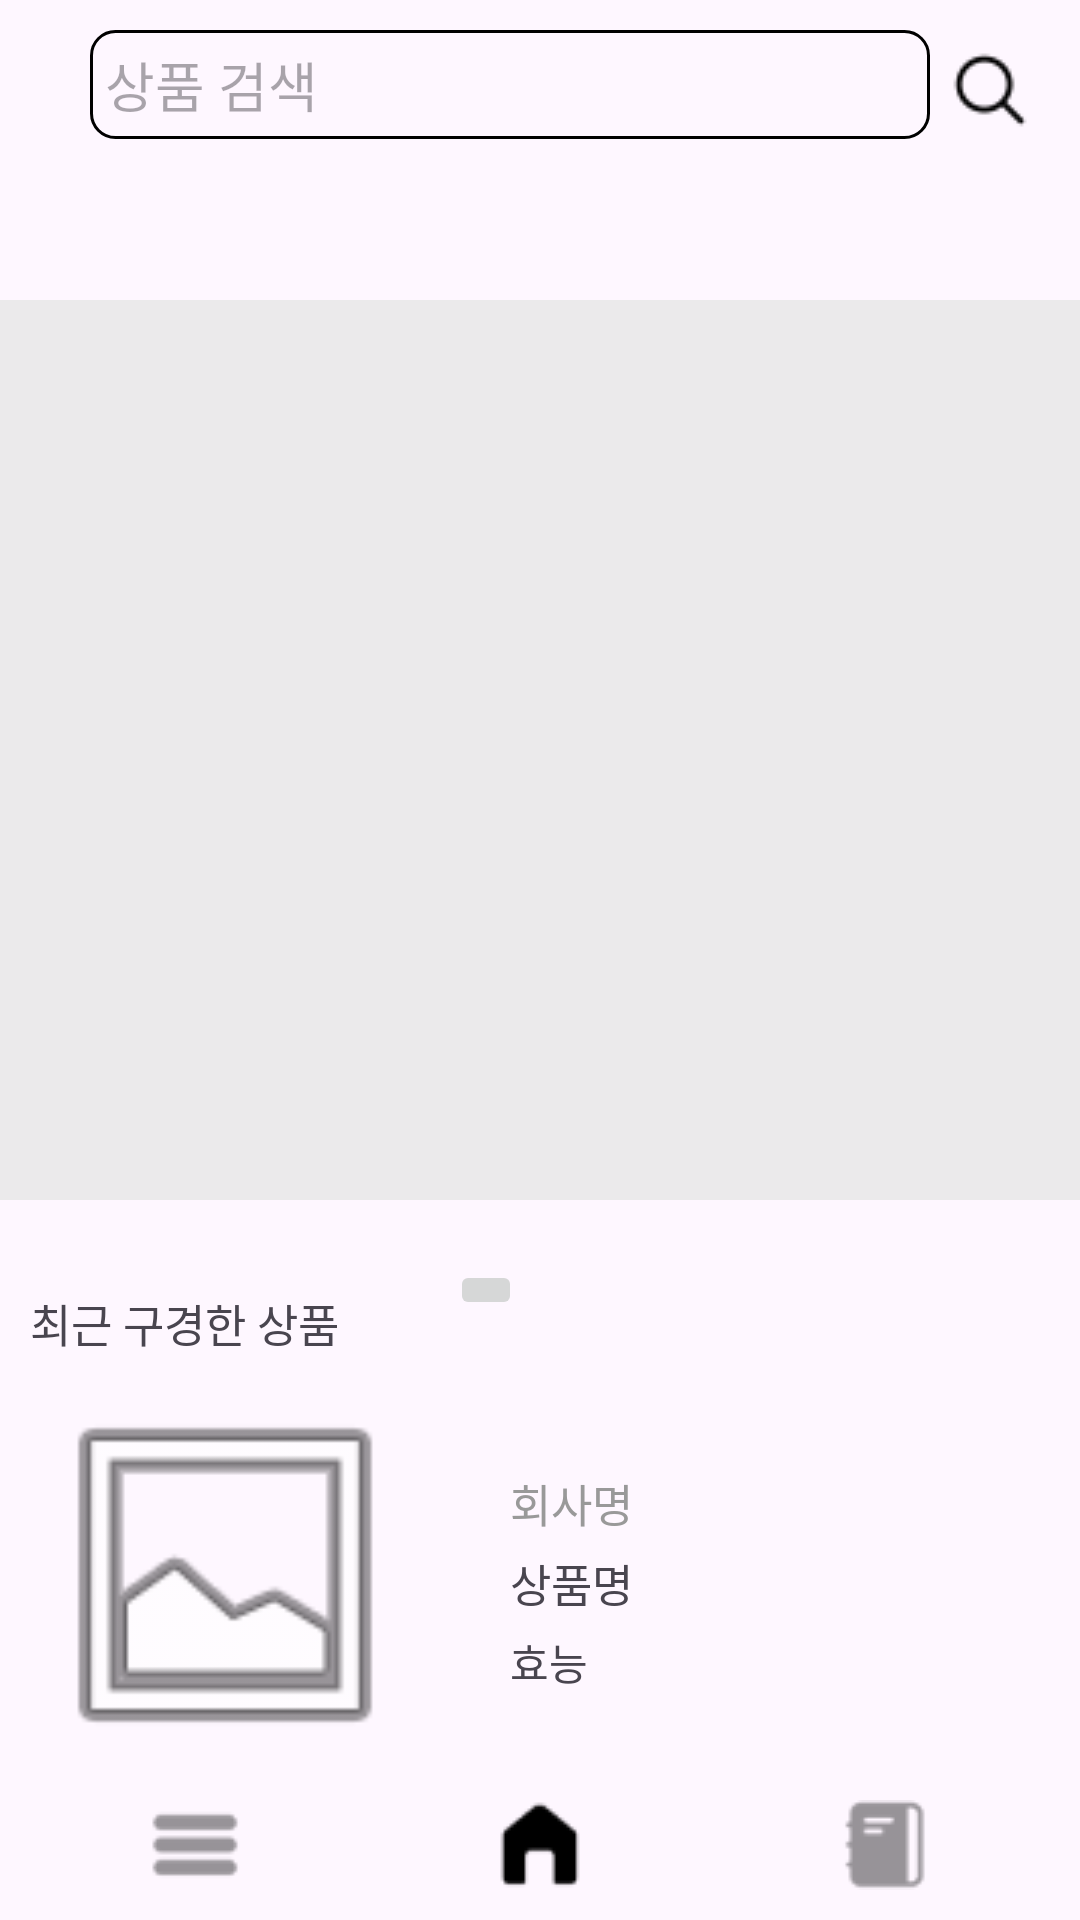

Point at icon controls on the screen. Image size 1080 x 1920, points as (x,y).
category: (195,1845)
diary: (884,1845)
gallery: (225,1575)
home: (540,1844)
search: (990,90)
